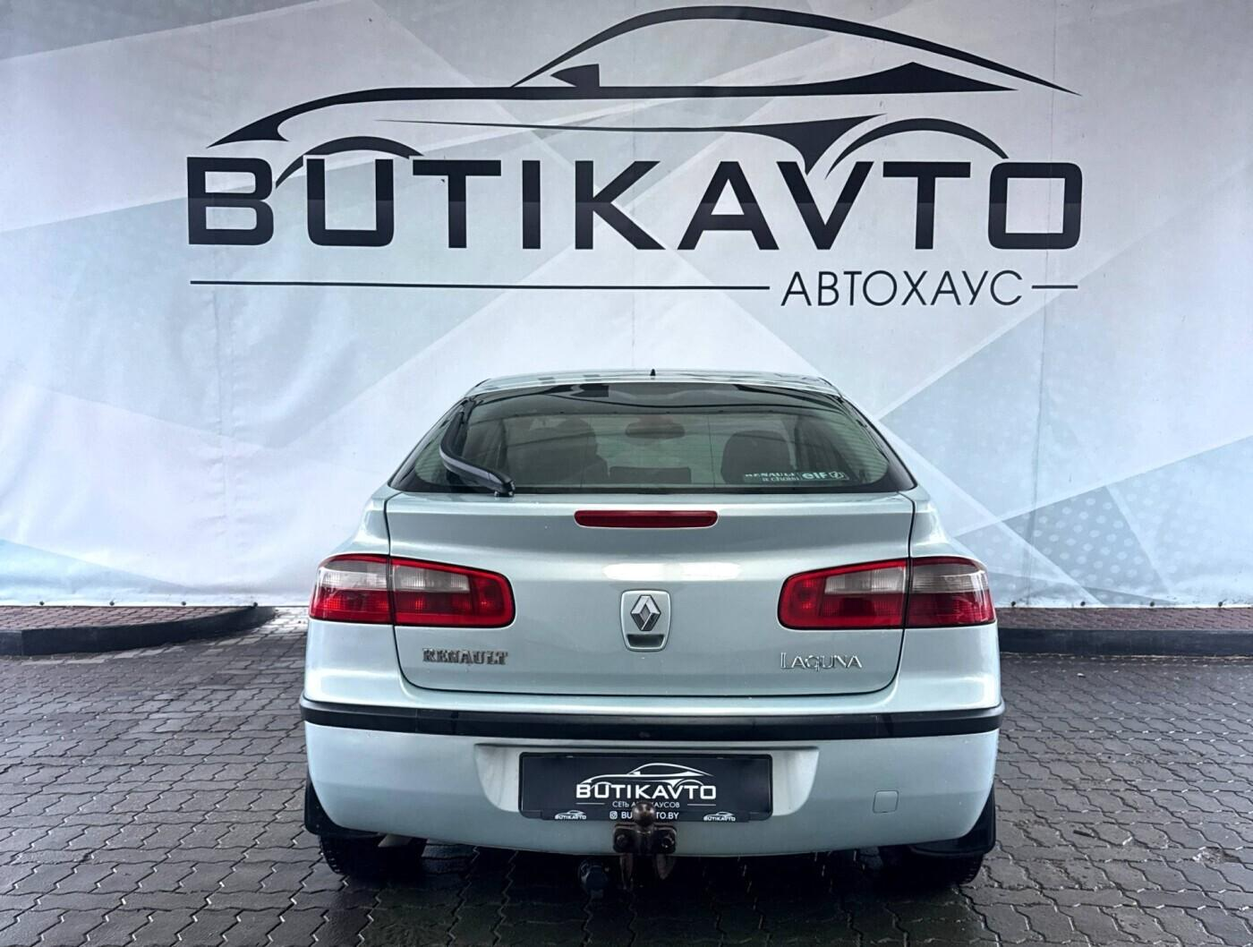Laguna_2001-2005: (299, 370, 1004, 892)
